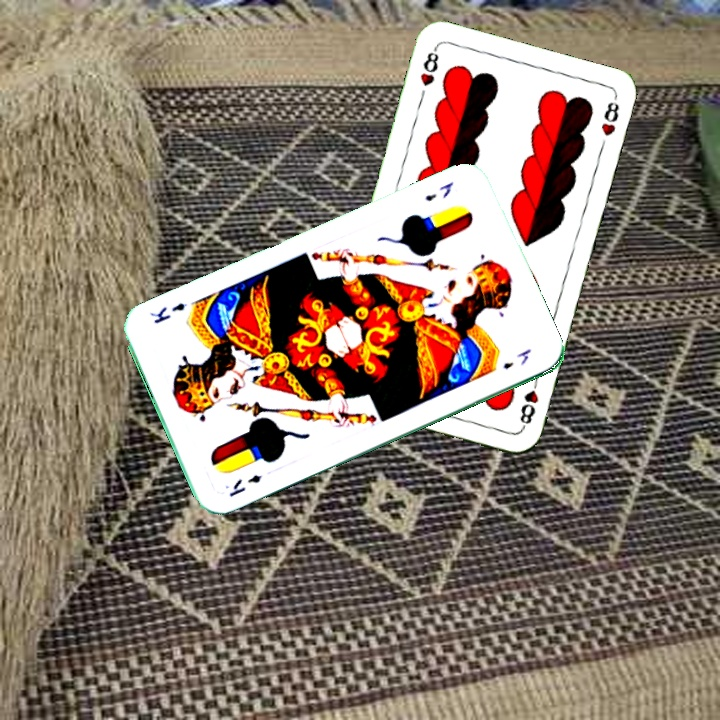EK: (224, 470, 264, 500), (420, 178, 457, 204)
H8: (516, 373, 541, 431), (416, 43, 442, 89)
